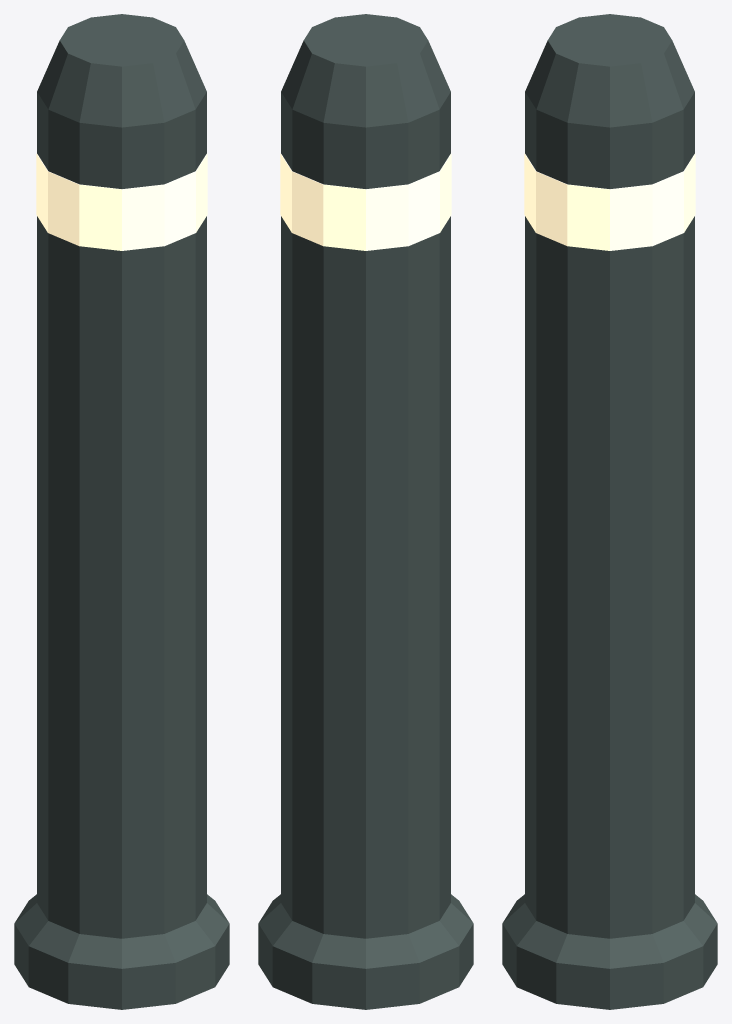
File: bollard.lod0.glb
The picture shows the model from 3 angles, left to right: view 1: azimuth 30°, elevation 25°; view 2: azimuth 150°, elevation 25°; view 3: azimuth 270°, elevation 25°; orthographic projection.
Visible parts, largest first — view 1: metal, diffuser; view 2: metal, diffuser; view 3: metal, diffuser.
Part boxes in pixels (left/top/right/bottom): metal: left=14, top=14, right=229, bottom=1009; diffuser: left=36, top=153, right=207, bottom=250; metal: left=258, top=14, right=473, bottom=1009; diffuser: left=280, top=153, right=451, bottom=250; metal: left=502, top=14, right=717, bottom=1009; diffuser: left=524, top=153, right=695, bottom=250.
Bounding box in the file's own units: 0.19 × 0.9 × 0.19.
